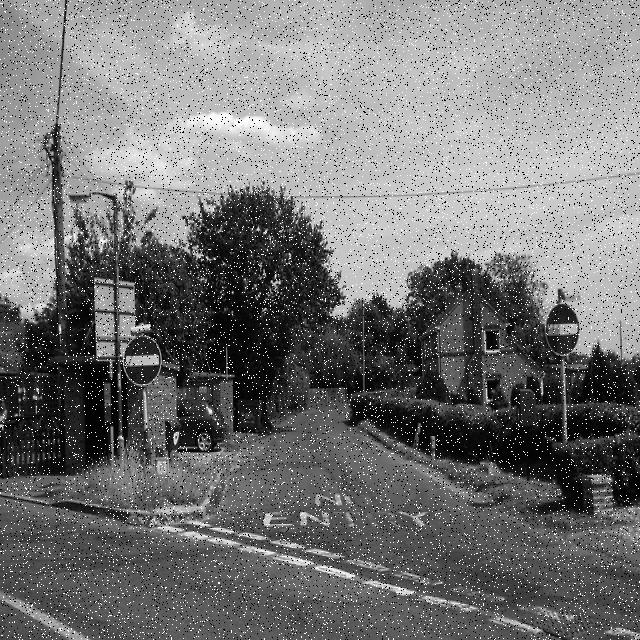no entry: (123, 335, 162, 388), (544, 303, 578, 356)
